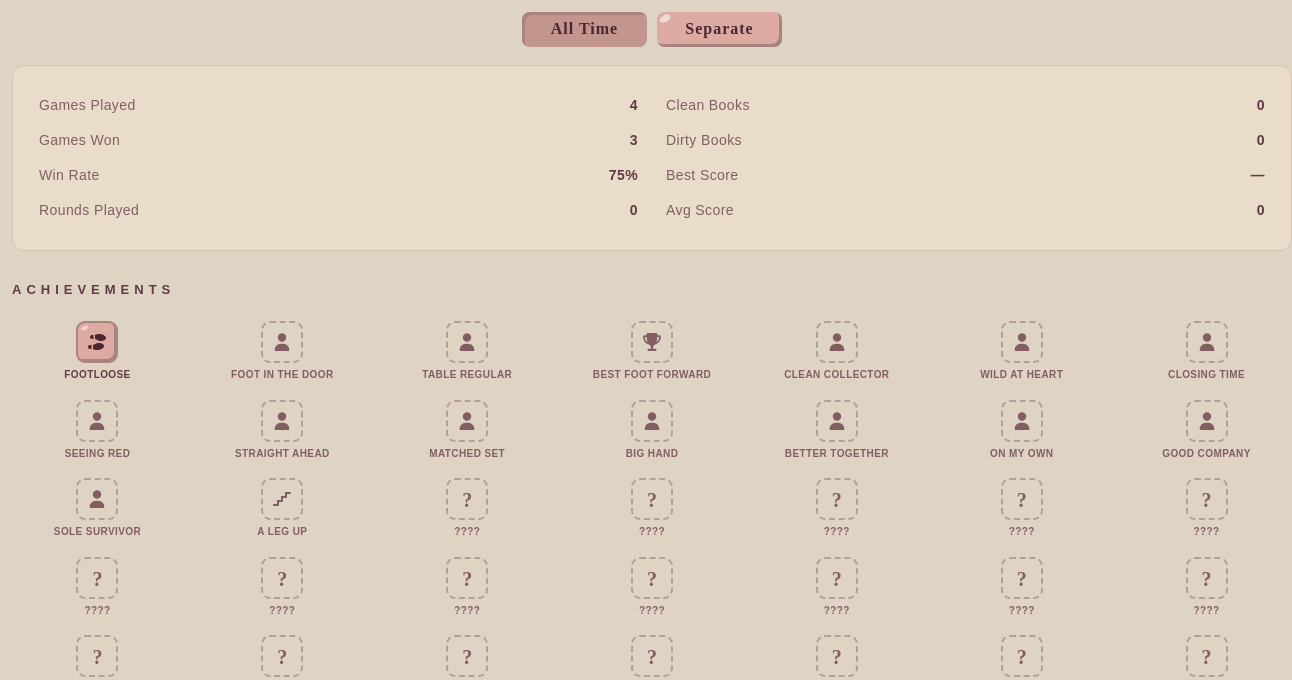
loads personal statistics, separates modes, and conceals secret names and descriptions
Check: the text "75%" is shown, box [609,165,638,186]
Focus the button named "Secret achievement: Locked" at [467, 499], box [446,478,488,520]
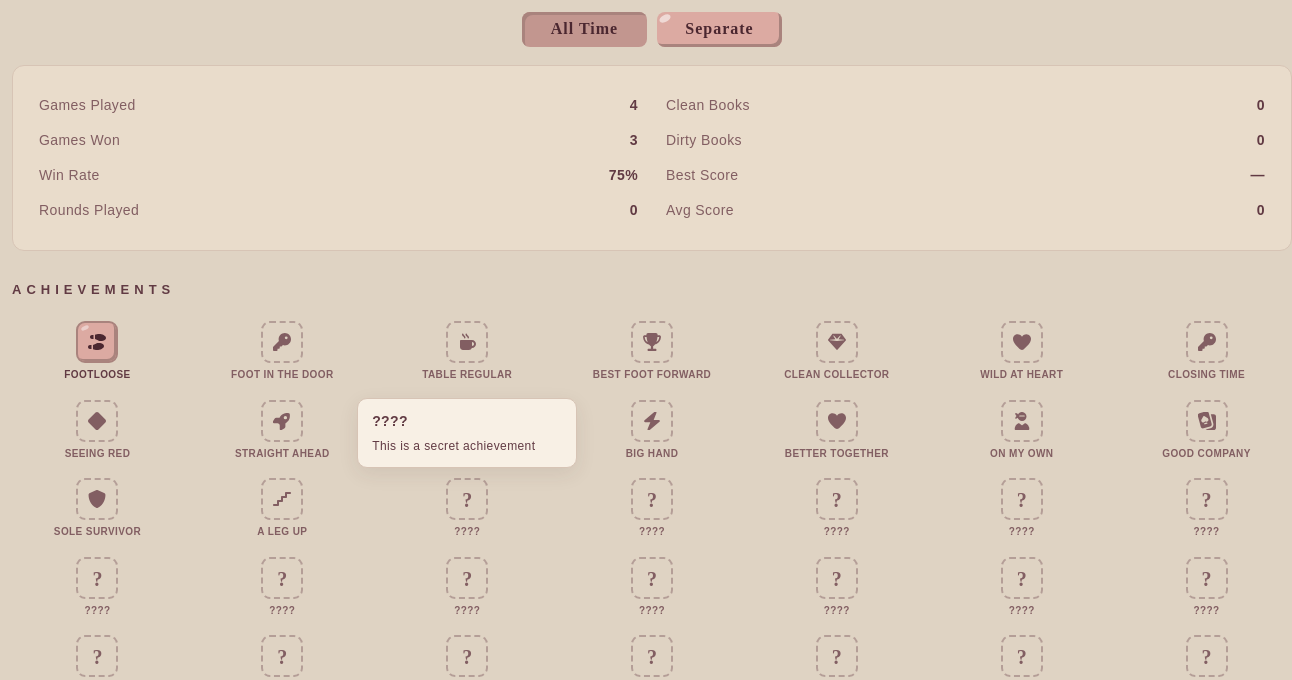
Check: the tooltip reads "???? This is a secret achievement", box [357,398,577,468]
Click the button "Separate" at [720, 30], box [657,12,782,47]
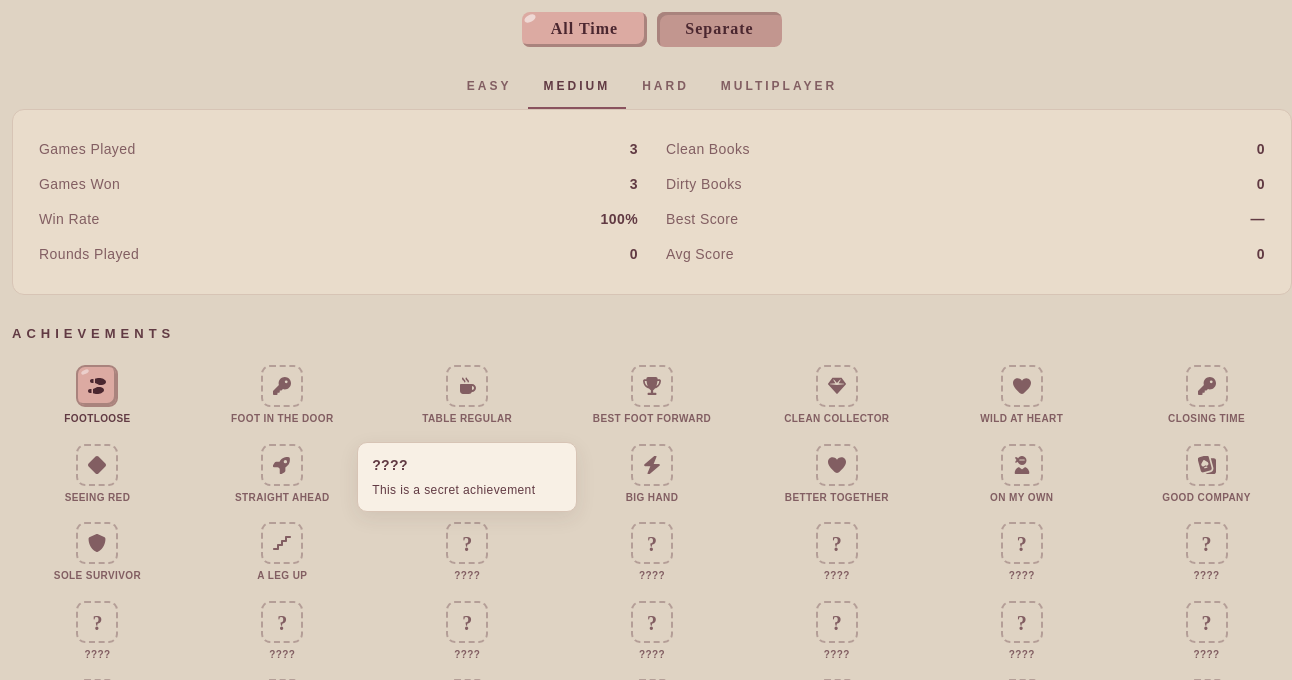
Check: the text "100%" is shown, box [601,209,638,230]
Click the button "Easy" at [489, 87], box [451,65,528,109]
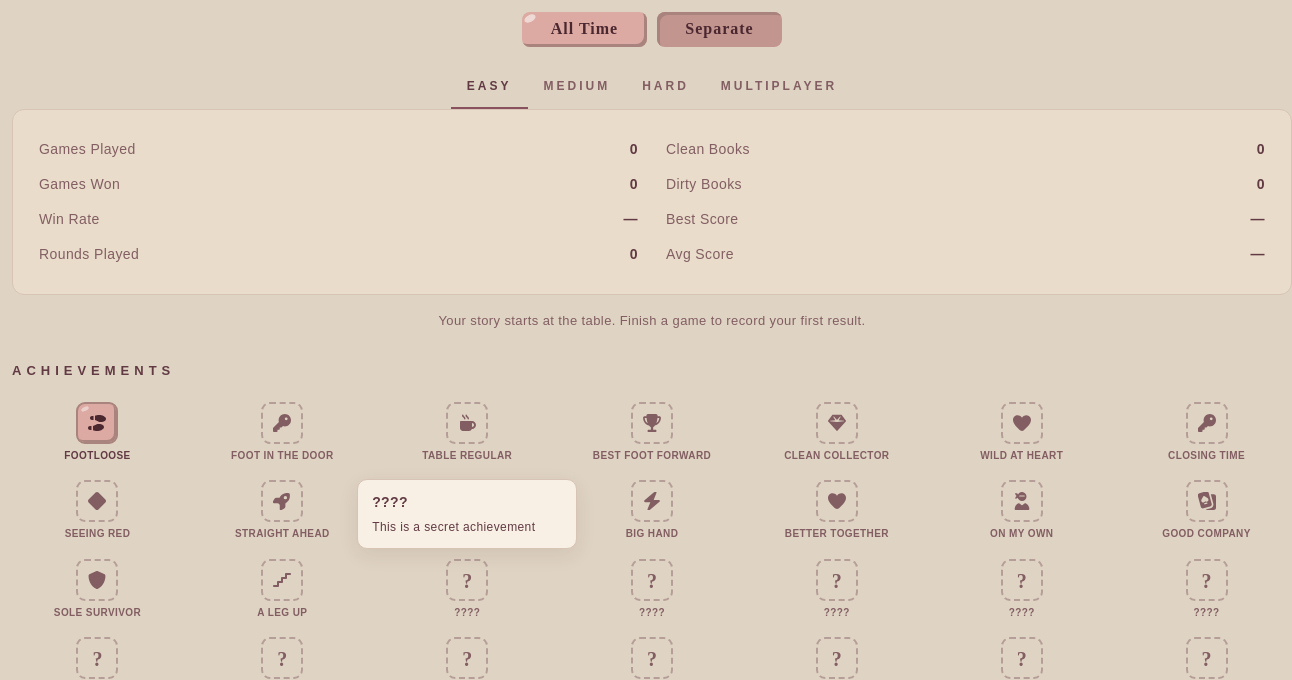
Check: the text "100%" in the row of "Win Rate" reads "—", box [624,211,638,227]
Click the button "Hard" at [666, 87], box [626,65,705,109]
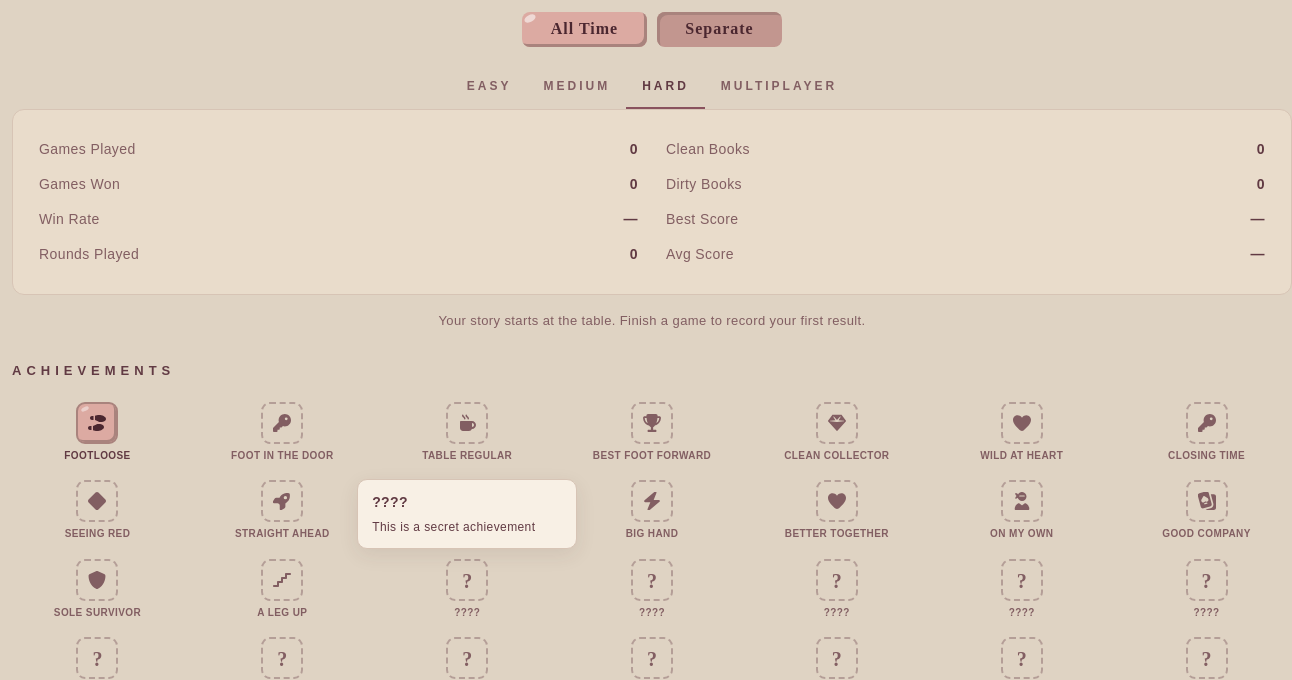
Check: the text "0" in the row of "Games Won" is shown, box [630,176,638,192]
Click the button "Multiplayer" at [779, 87], box [705,65,853,109]
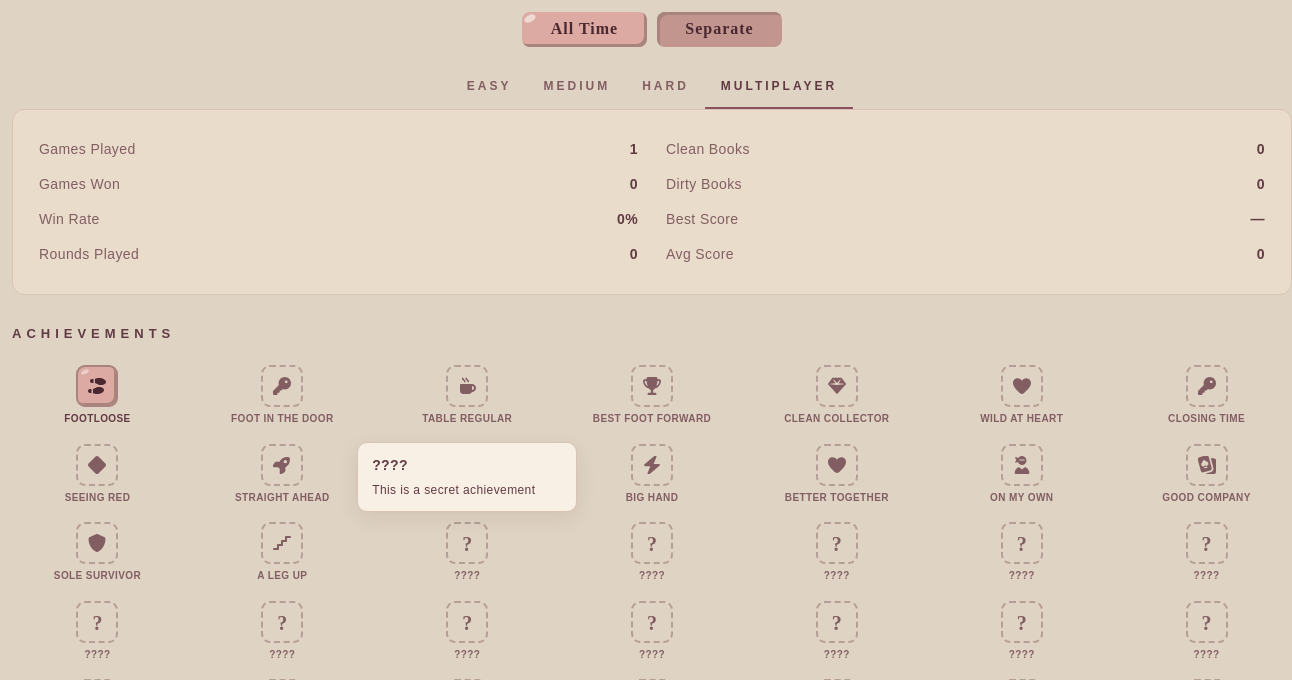
Check: the text "0%" is shown, box [617,209,638,230]
